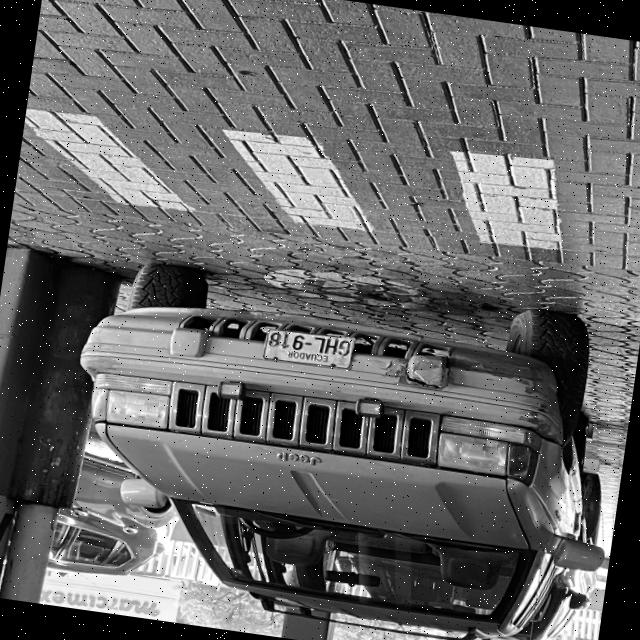Placa: (263, 329, 354, 367)
